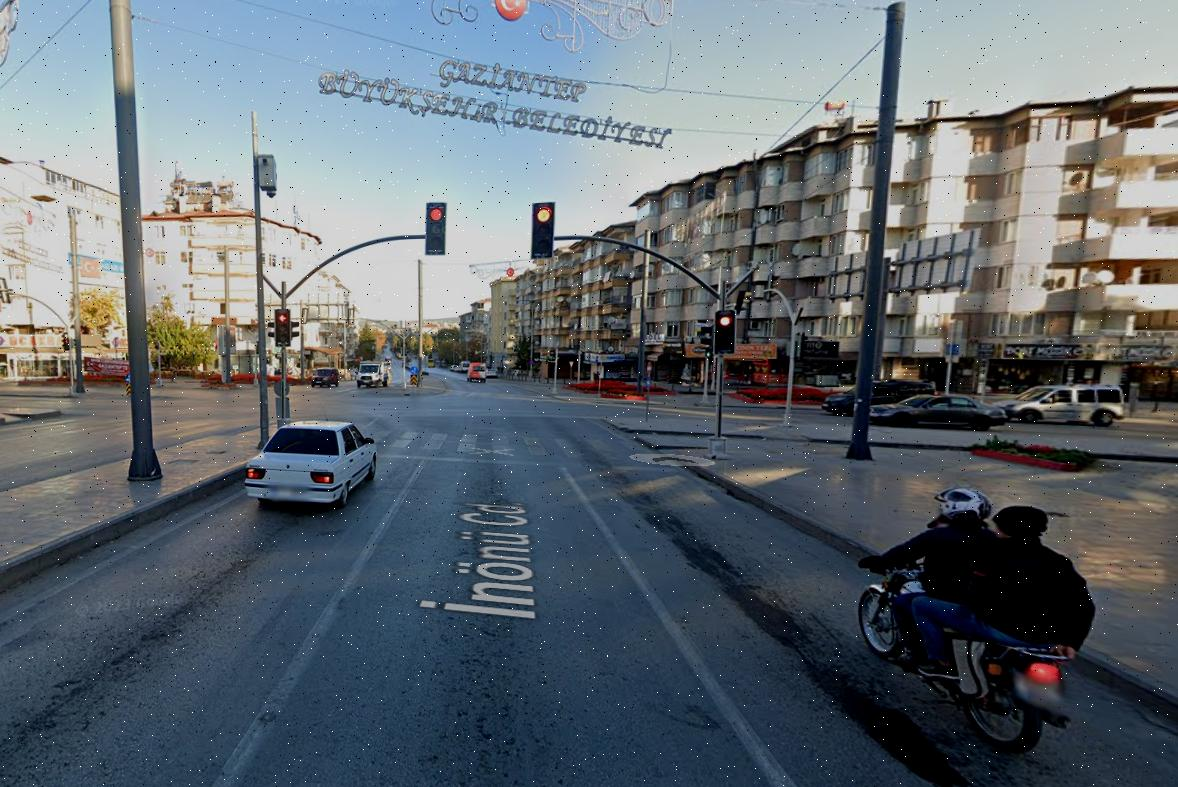redlight: (422, 197, 455, 259), (528, 197, 559, 263), (714, 307, 741, 359), (272, 306, 293, 348)
